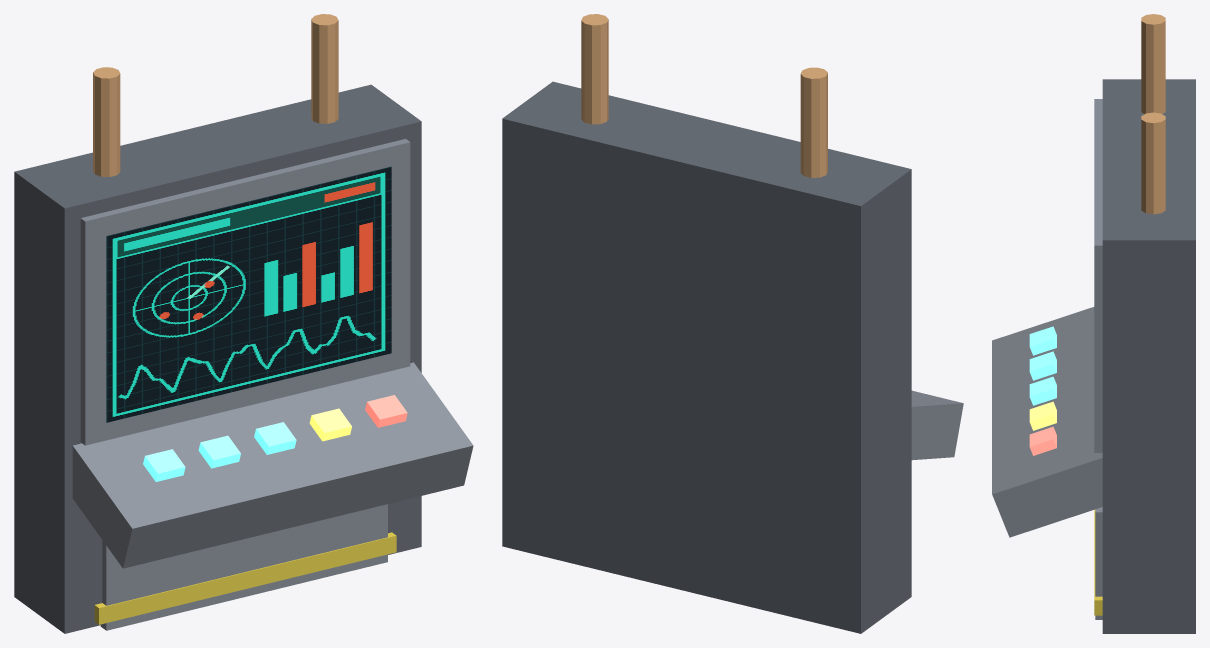
Rendered from wall_control_console.glb.
3 renders of one model, left to right at view 1: azimuth 30°, elevation 25°; view 2: azimuth 150°, elevation 25°; view 3: azimuth 270°, elevation 25°, orthographic. The views are drawn at different scales.
Parts seen in each view (by area): view 1: WallControlConsole; view 2: WallControlConsole; view 3: WallControlConsole.
Part boxes in pixels (<box>): WallControlConsole: <box>14,14,473,633</box>; WallControlConsole: <box>502,14,963,633</box>; WallControlConsole: <box>992,14,1195,633</box>.
Size of the model in its own units: 1.8 by 2.54 by 0.9617.
Materials: 8 (1 with a texture image).
